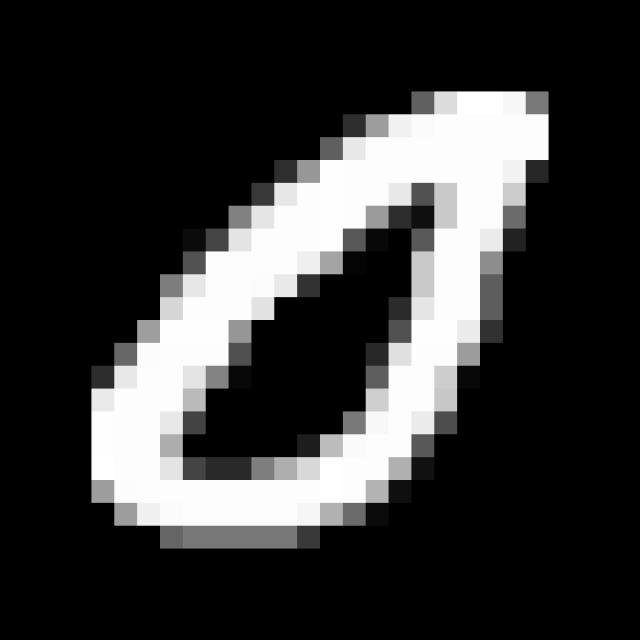zero -0-: (78, 78, 568, 547)
